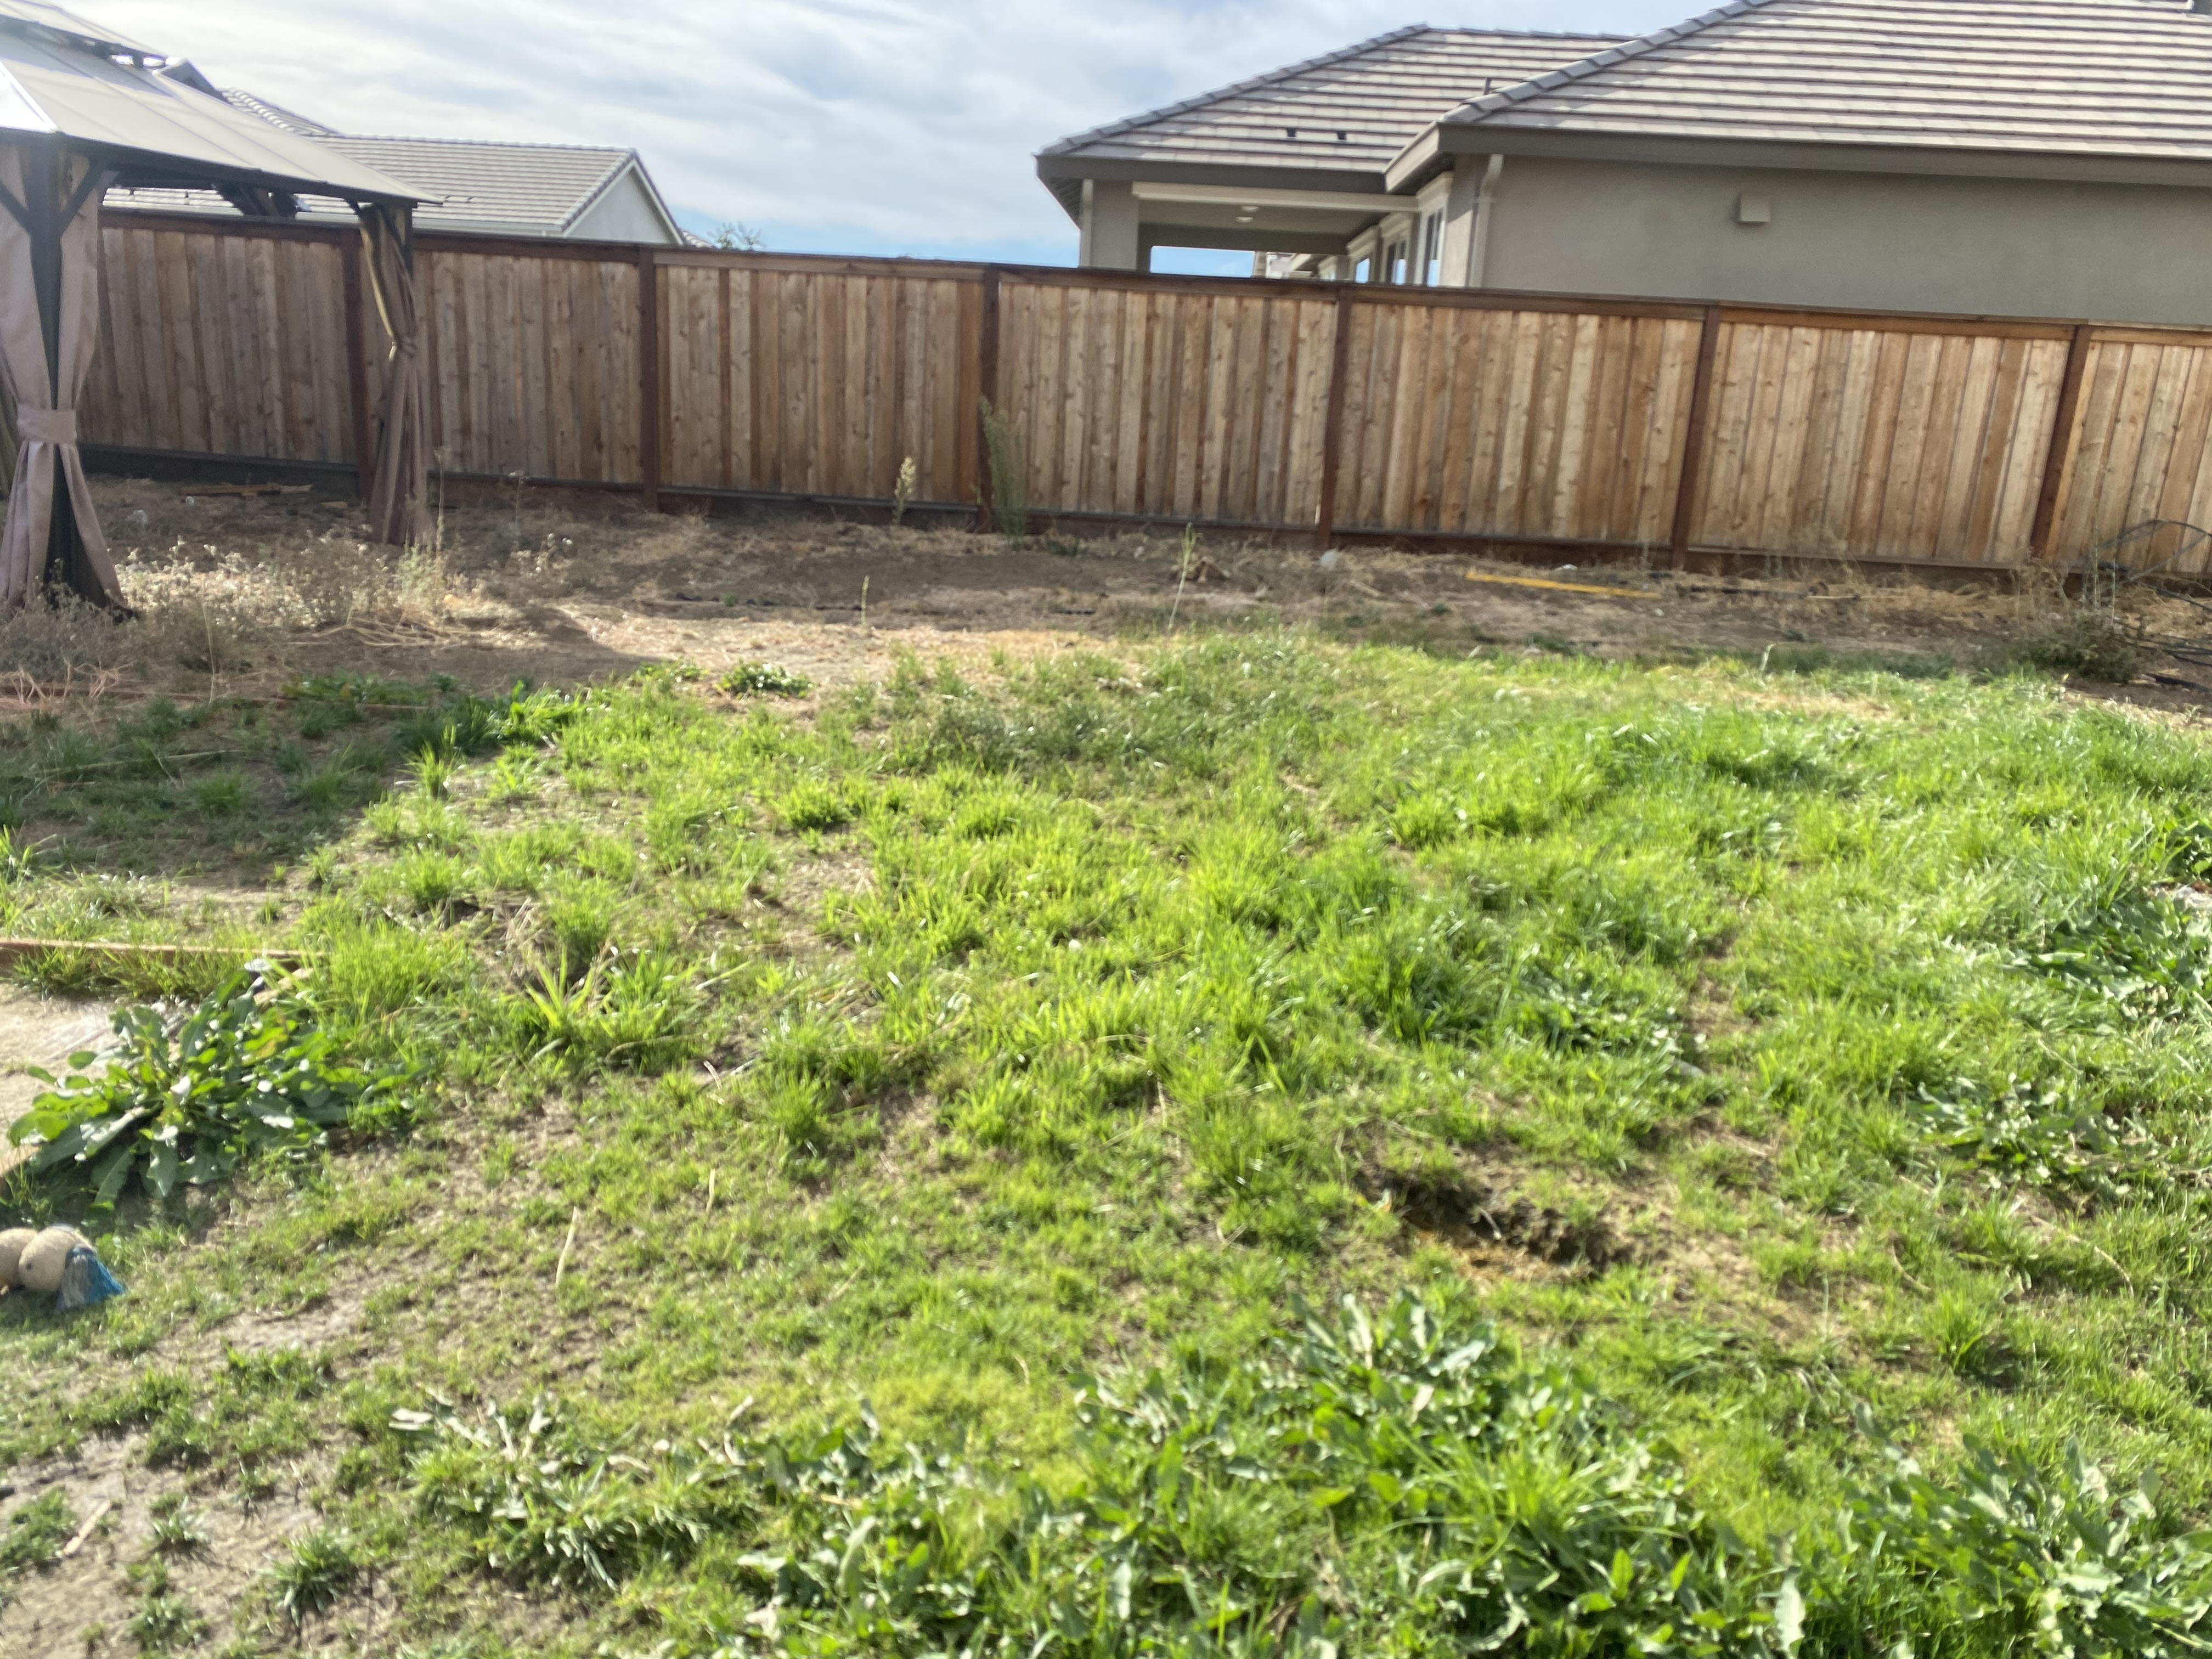weed: (1893, 1464, 2212, 1650), (35, 1000, 359, 1182), (1362, 1427, 1677, 1595), (413, 1392, 686, 1574), (1245, 1284, 1517, 1443), (2034, 868, 2212, 988)
